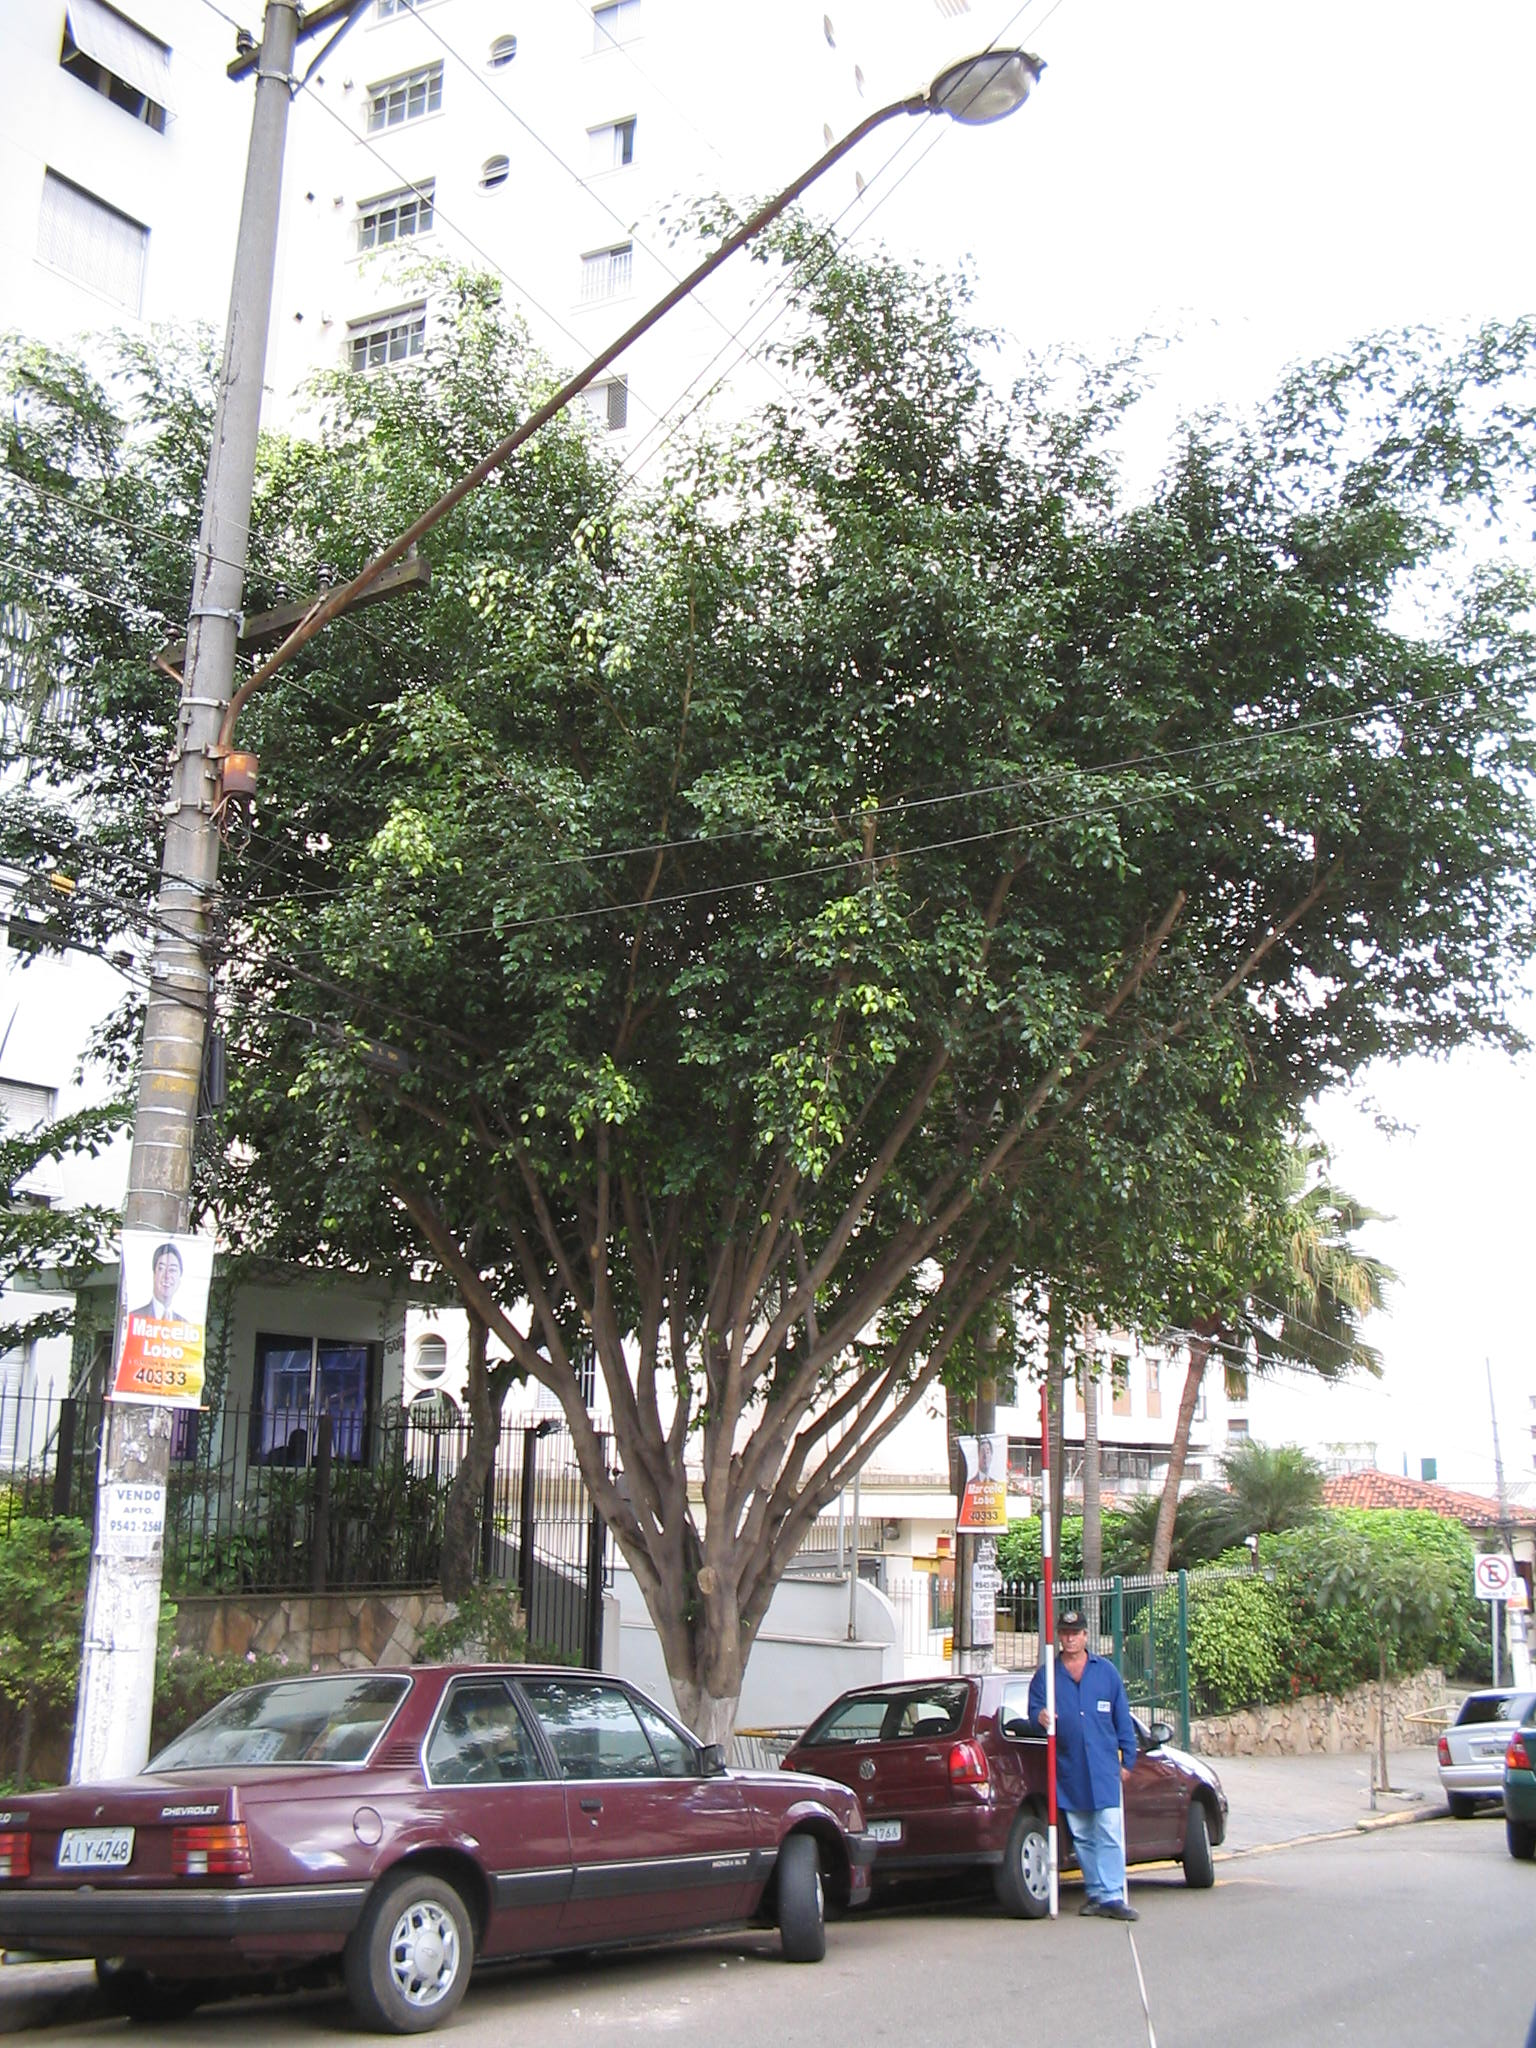crown: (282, 182, 1528, 1432)
stem: (645, 1675, 781, 1917)
stick: (1021, 1390, 1083, 1921)
tree: (281, 184, 1536, 1917)
